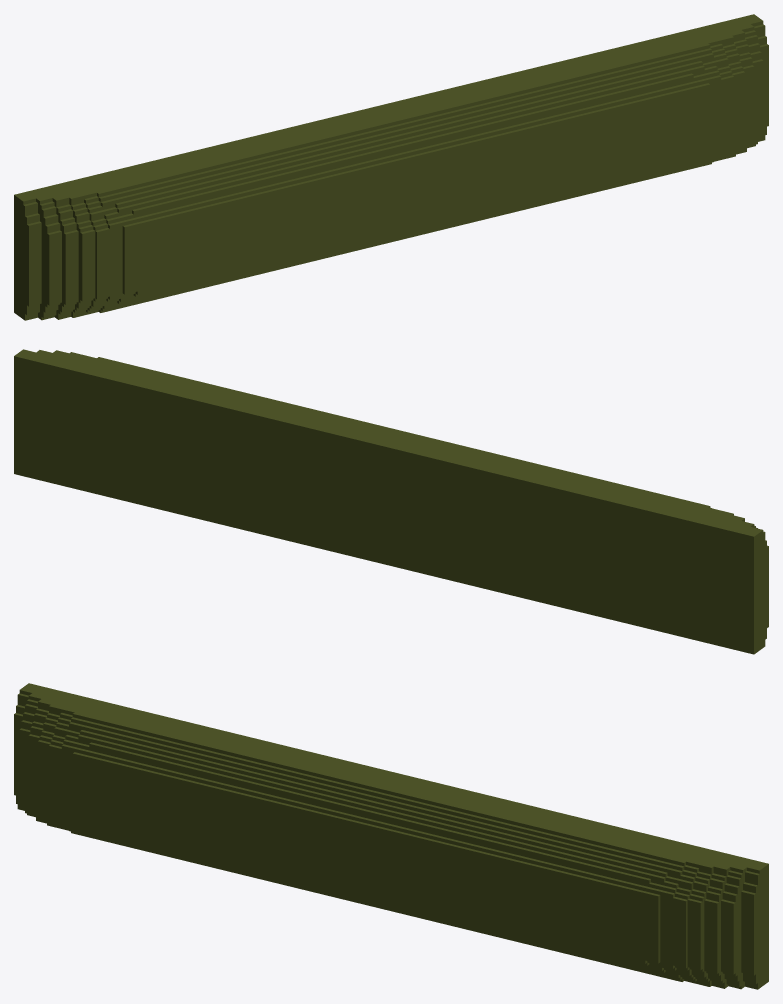
Rendered from heavy_cargo_helicopter_sponson.glb.
The picture shows the model from 3 angles, top to bottom: view 1: azimuth 30°, elevation 25°; view 2: azimuth 150°, elevation 25°; view 3: azimuth 330°, elevation 25°; orthographic projection.
Parts seen in each view (by area): view 1: body:compound; view 2: body:compound; view 3: body:compound.
Part boxes in pixels (<box>): body:compound: <box>14,14,768,320</box>; body:compound: <box>14,349,768,654</box>; body:compound: <box>14,683,768,989</box>.
Size of the model in its own units: 7.19 by 1.09 by 0.5625.
